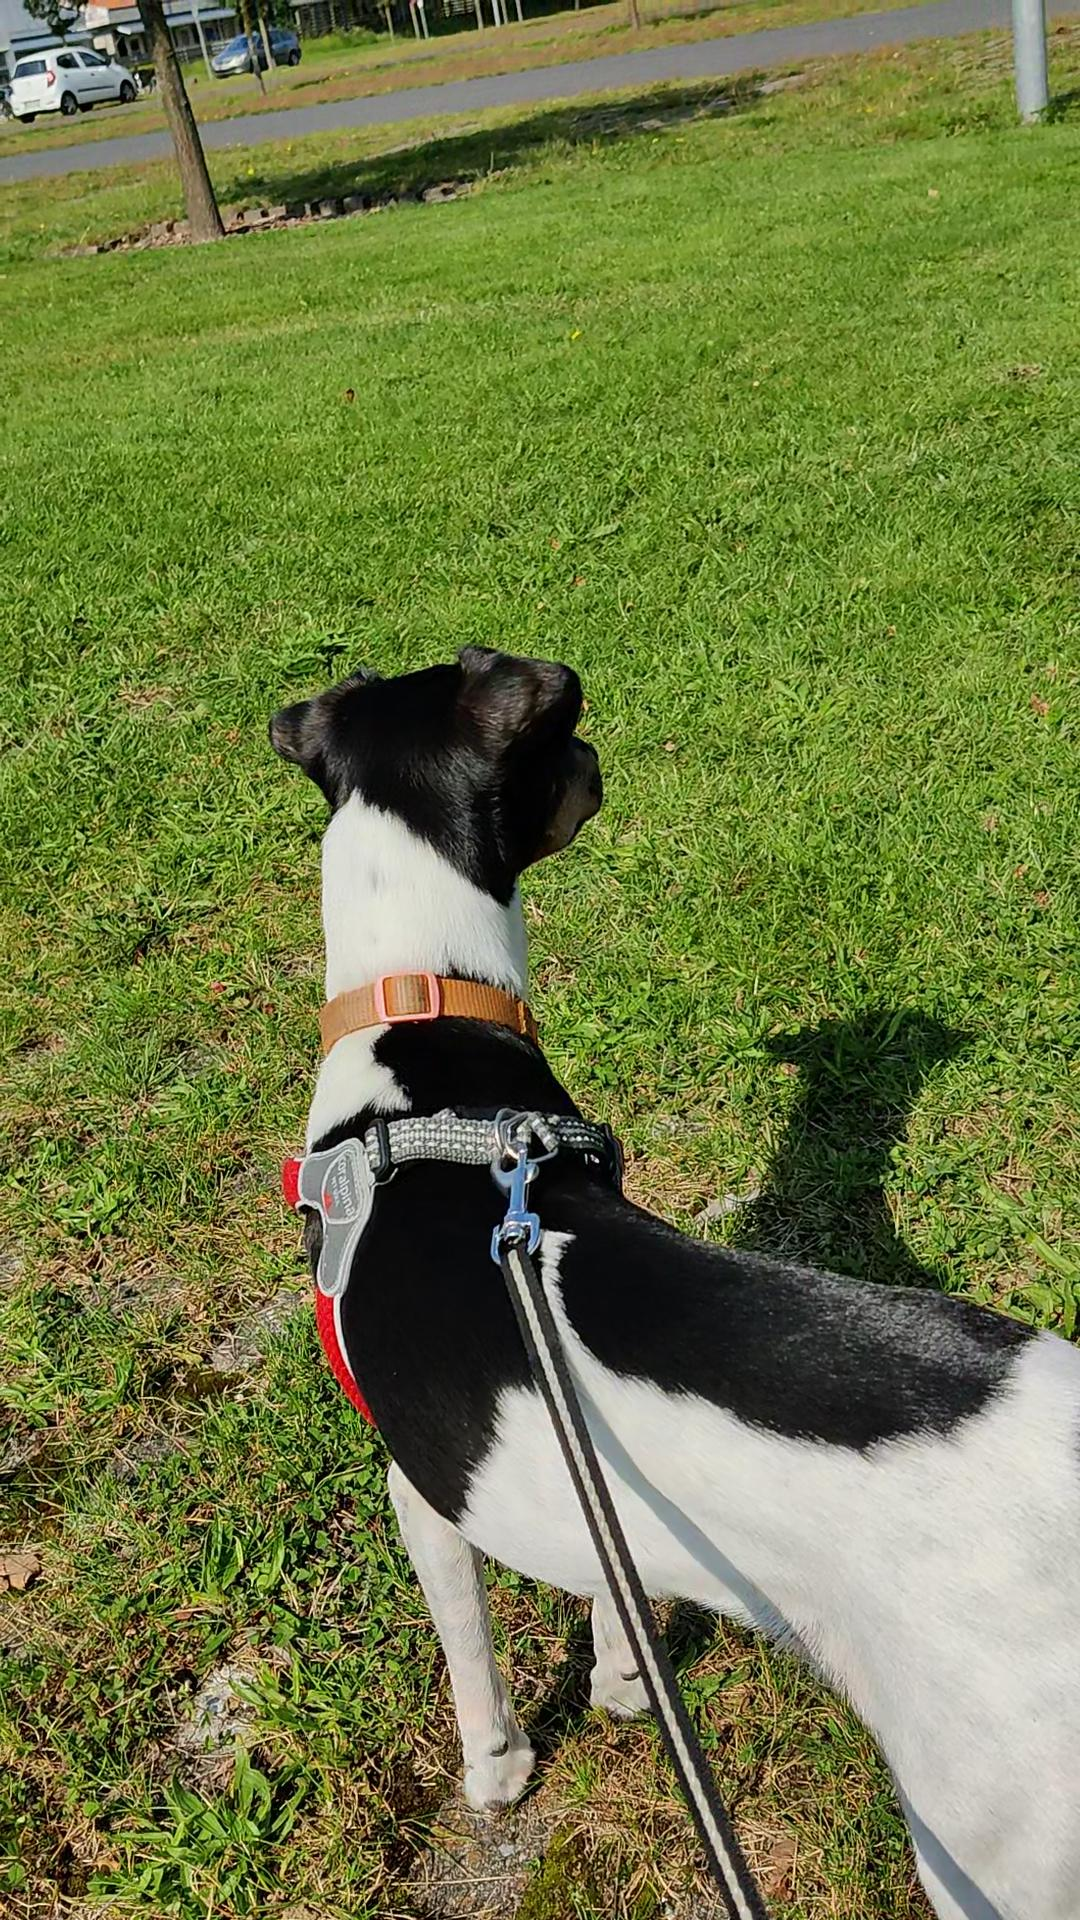Dog: (262, 637, 1079, 1919)
